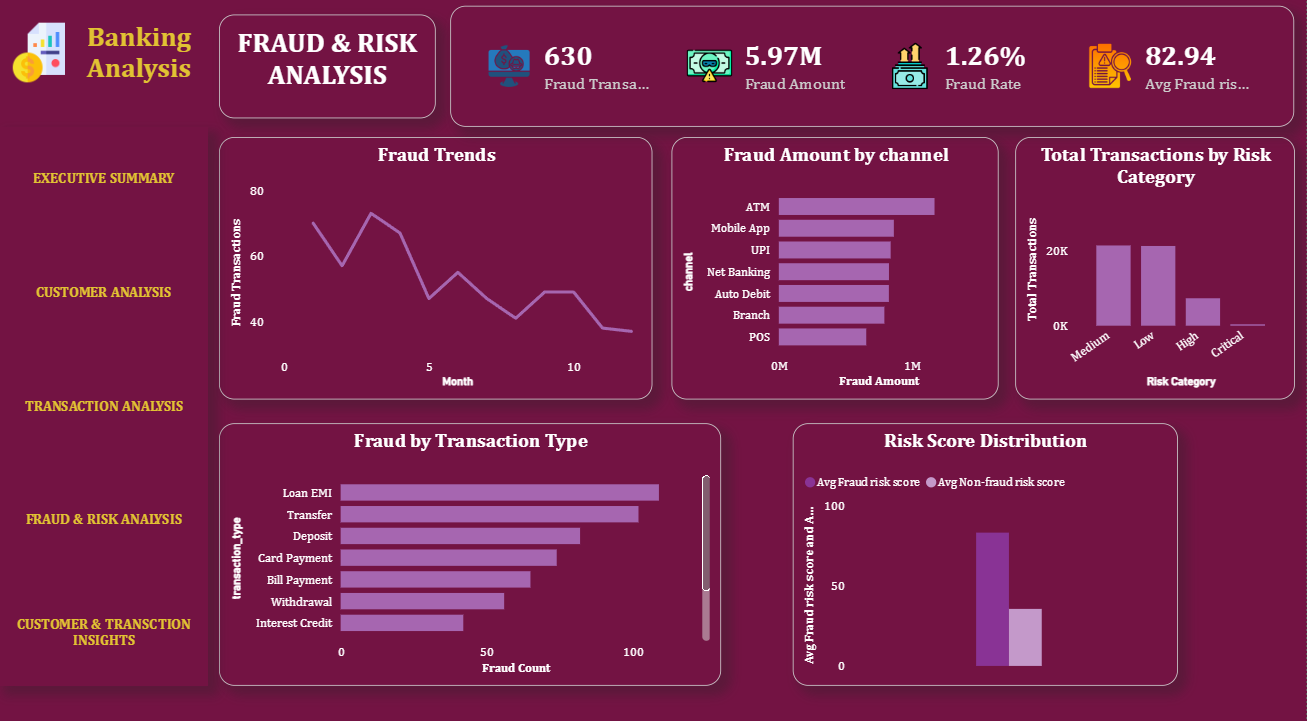

This screenshot's page, from the dashboard's own definition file:
{"tool":"powerbi","page":{"name":"FRAUD & RISK ANALYSIS","canvas":[1280,720],"ordinal":3},"visuals":[{"type":"textbox","box":[214.8,22.2,212.3,101.2],"z":0},{"type":"cardVisual","fields":{"Data":["finance_transactions.Fraud Transactions","finance_transactions.Fraud Amount","finance_transactions.Fraud Rate","finance_transactions.Avg Fraud risk score"]},"box":[442,13.6,825.9,118.5],"z":1000},{"type":"lineChart","title":"Fraud Trends","fields":{"Y":["finance_transactions.Fraud Transactions"],"Category":["Dim Calender.Month"]},"box":[215.2,141.8,424.3,256.8],"z":2000},{"type":"barChart","fields":{"Y":["finance_transactions.Fraud Amount"],"Category":["finance_transactions.channel"]},"box":[657.9,141.8,320.4,256.8],"z":3000},{"type":"barChart","title":"Fraud by Transaction Type","fields":{"Category":["finance_transactions.transaction_type"],"Y":["finance_transactions.Fraud Count"]},"box":[215.2,421.9,491.6,256.8],"z":4000},{"type":"columnChart","fields":{"Y":["finance_transactions.Total Transactions"],"Category":["finance_transactions.Risk Category"]},"box":[994.2,141.8,273.9,256.8],"z":5000},{"type":"shape","box":[0,0,205.4,720.2],"z":6000},{"type":"textbox","box":[68.5,22,137,86.8],"z":7000},{"type":"image","box":[9.8,22,58.7,74.6],"z":8000},{"type":"pageNavigator","box":[0,132.5,205,546.2],"z":9000},{"type":"clusteredColumnChart","title":"Risk Score Distribution","fields":{"Y":["finance_transactions.Avg Fraud risk score","finance_transactions.Avg Non-fraud risk score"]},"box":[776.5,422.2,376.5,256.8],"z":10000}]}

Visuals, with their boxes in screenshot pixels (x1, y1, x2, y2), scaled from the page's 1280x720 canvas onto the 1307x721 screenshot:
textbox: <box>219,22,436,124</box>
cardVisual - finance_transactions.Fraud Transactions x finance_transactions.Fraud Amount: <box>451,14,1295,132</box>
"Fraud Trends" lineChart: <box>220,142,653,399</box>
barChart - finance_transactions.Fraud Amount x finance_transactions.channel: <box>672,142,999,399</box>
"Fraud by Transaction Type" barChart: <box>220,422,722,680</box>
columnChart - finance_transactions.Total Transactions x finance_transactions.Risk Category: <box>1015,142,1295,399</box>
shape: <box>0,0,210,720</box>
textbox: <box>70,22,210,109</box>
image: <box>10,22,70,97</box>
pageNavigator: <box>0,133,209,680</box>
"Risk Score Distribution" clusteredColumnChart: <box>793,423,1177,680</box>
